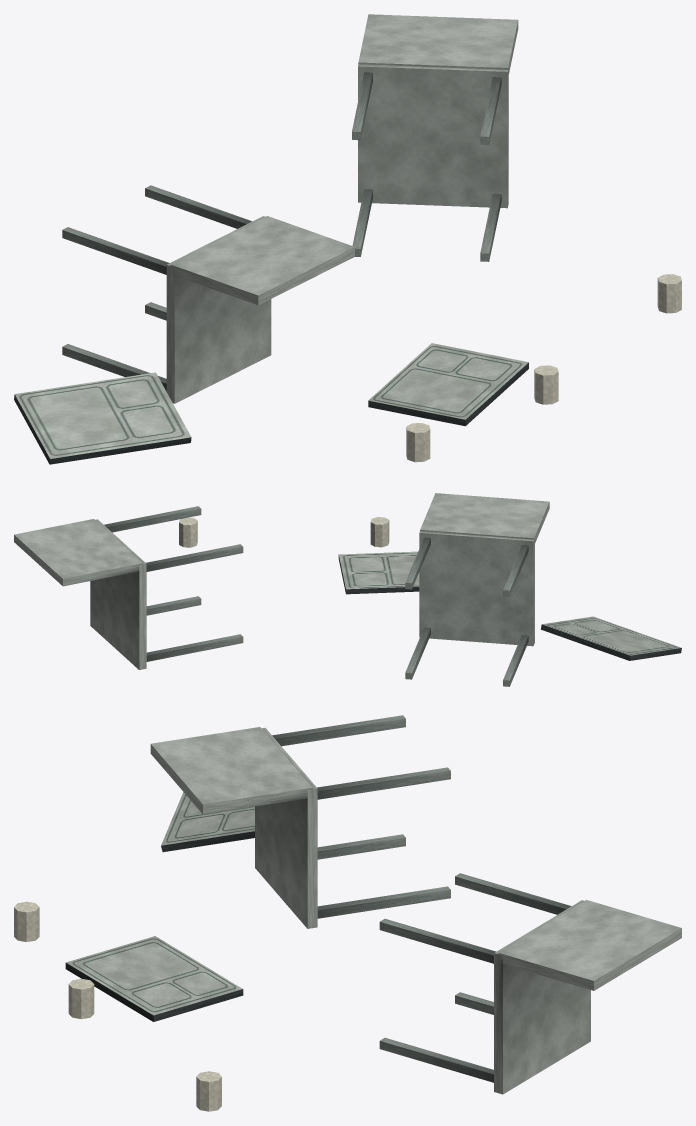
Rendered from mess_spill.glb.
3 views of the same model, one above another, from view 1: azimuth 30°, elevation 25°; view 2: azimuth 150°, elevation 25°; view 3: azimuth 270°, elevation 25° (orthographic). The views are drawn at different scales.
Visible parts, largest first — view 1: MessSpill; view 2: MessSpill; view 3: MessSpill.
Boxes of the visible parts, x1,y1,x2,y2 form: MessSpill: [14, 14, 681, 464]; MessSpill: [14, 493, 681, 686]; MessSpill: [14, 715, 681, 1111].
Size of the model in its own units: 2.15 by 0.435 by 1.83.
Materials: 1 (1 with a texture image).
